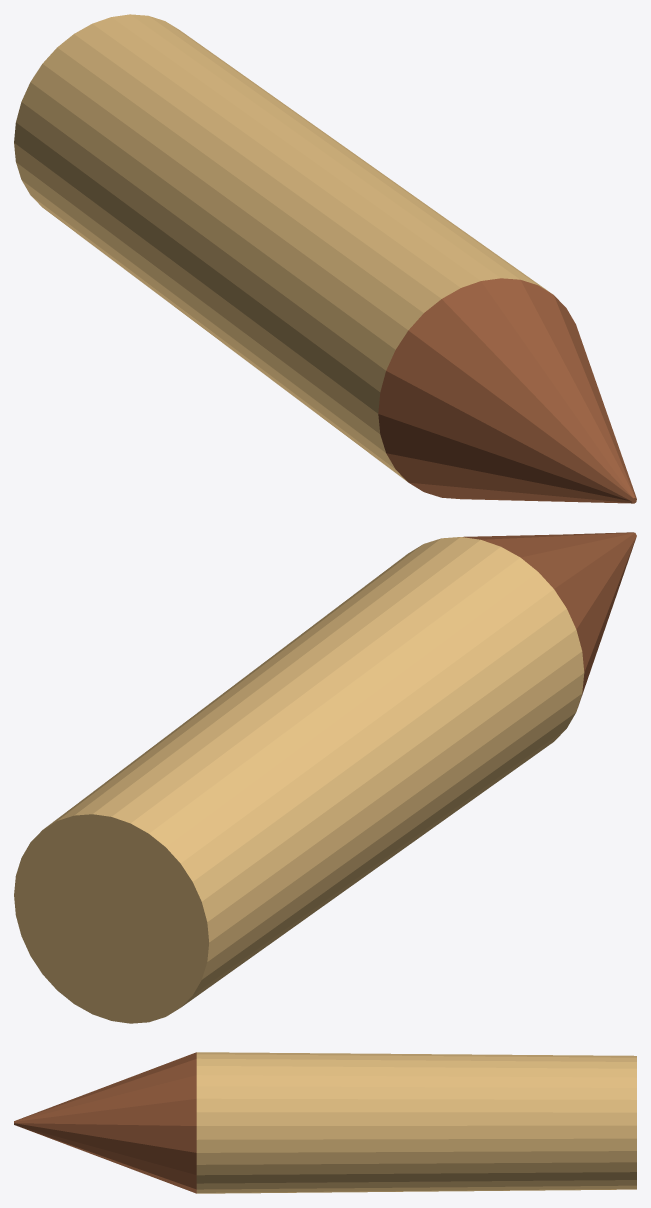
Rendered from minigun_ammo.fbx.
3 views of the same model, one above another, from view 1: azimuth 30°, elevation 25°; view 2: azimuth 150°, elevation 25°; view 3: azimuth 270°, elevation 25° (orthographic). The views are drawn at different scales.
Visible parts, largest first — view 1: minigun_ammo; view 2: minigun_ammo; view 3: minigun_ammo.
Boxes of the visible parts, left/top/right/bottom form: minigun_ammo: left=14, top=14, right=636, bottom=503; minigun_ammo: left=14, top=532, right=636, bottom=1023; minigun_ammo: left=14, top=1052, right=636, bottom=1193.
Bounding box in the file's own units: 1.5 × 6.6 × 1.5.
